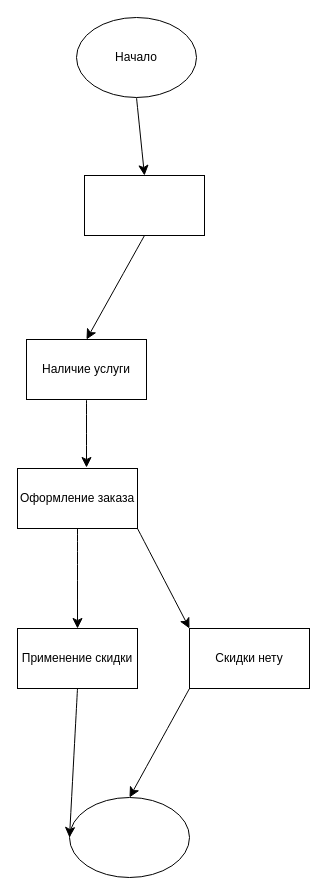
This 327x895 diagram has some shape labels left out. The centre of each missing label's shape, as x and y in pixels:
"Конец" goes at (x=129, y=837).
"Услуга" goes at (x=144, y=205).
